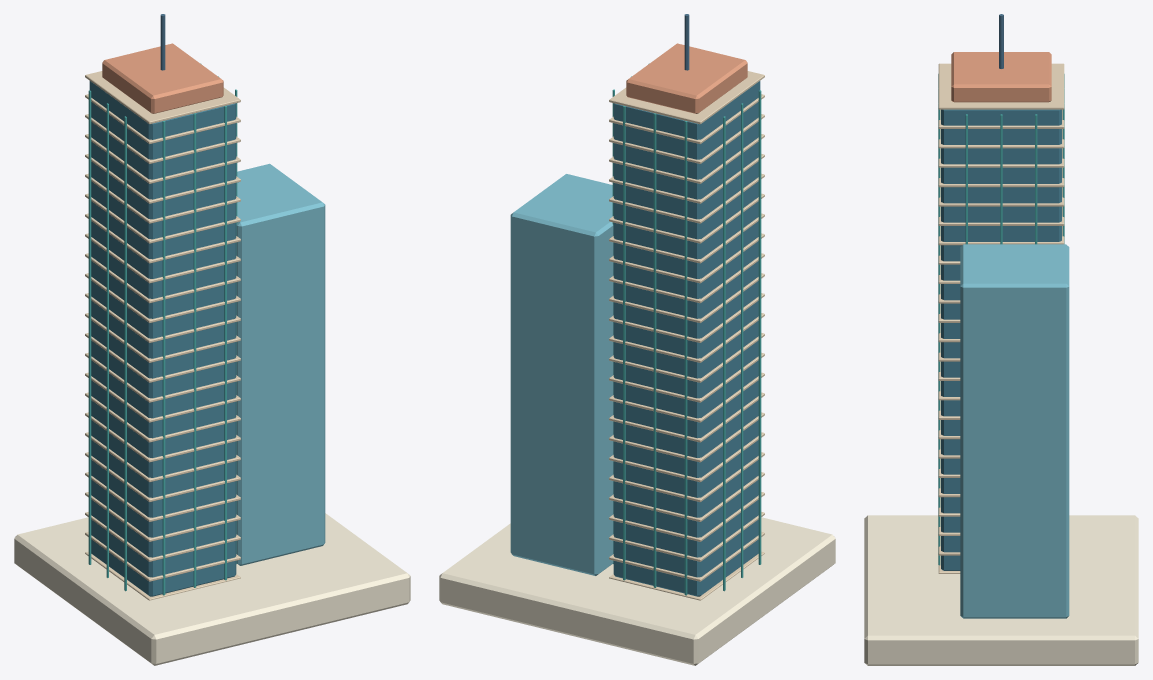
The model's file is RES_TOWER_4x4_003.glb.
The picture shows the model from 3 angles, left to right: view 1: azimuth 30°, elevation 25°; view 2: azimuth 150°, elevation 25°; view 3: azimuth 270°, elevation 25°; orthographic projection. The views are drawn at different scales.
Parts seen in each view (by area): view 1: RES_TOWER_4x4_003_Visual; view 2: RES_TOWER_4x4_003_Visual; view 3: RES_TOWER_4x4_003_Visual.
Part boxes in pixels (left/top/right/bottom): RES_TOWER_4x4_003_Visual: left=14, top=14, right=410, bottom=665; RES_TOWER_4x4_003_Visual: left=439, top=14, right=835, bottom=665; RES_TOWER_4x4_003_Visual: left=864, top=14, right=1138, bottom=665.
Size of what is drawn, in the model's own units: 6.55 by 14.05 by 6.16.
